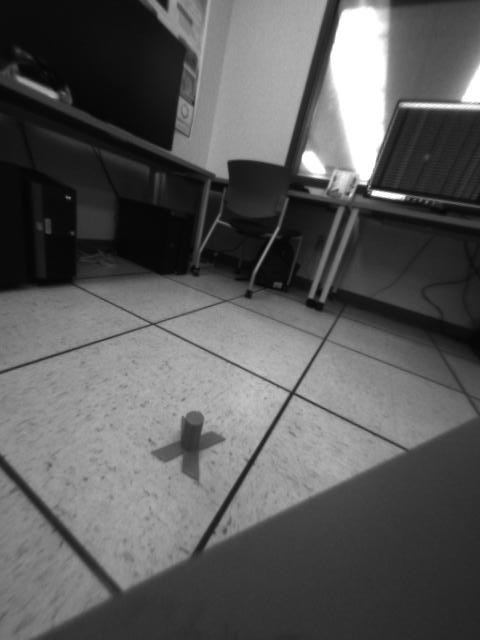X: (151, 412, 225, 484)
